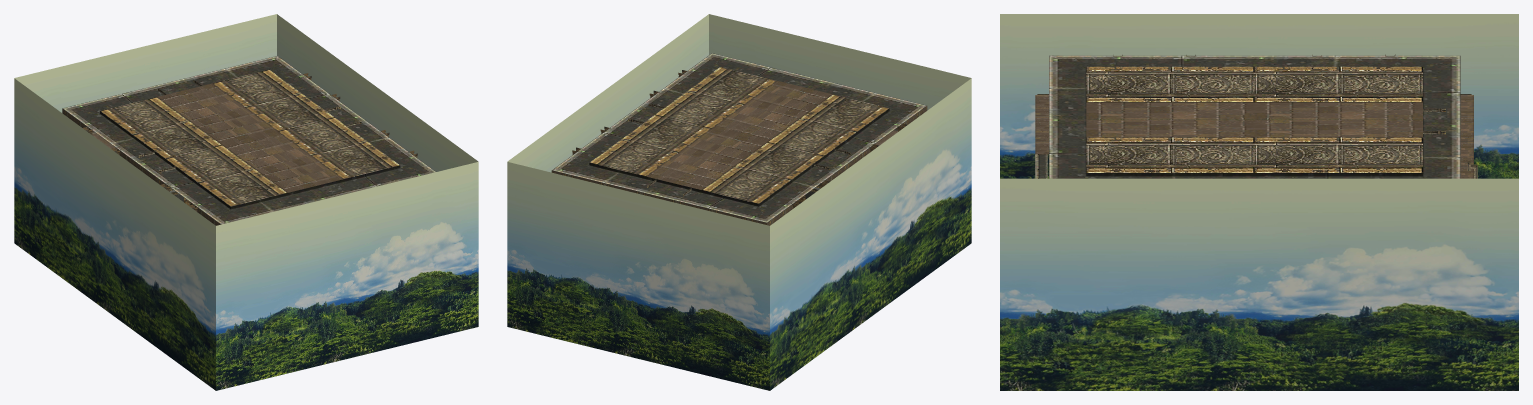
Rendered from cog_scene001.FBX.
The picture shows the model from 3 angles, left to right: view 1: azimuth 30°, elevation 25°; view 2: azimuth 150°, elevation 25°; view 3: azimuth 270°, elevation 25°; orthographic projection. The views are drawn at different scales.
Visible parts, largest first — view 1: cog_scene001_sky; view 2: cog_scene001_sky; view 3: cog_scene001_sky.
Boxes of the visible parts, x1,y1,x2,y2 form: cog_scene001_sky: (14, 14, 478, 390); cog_scene001_sky: (507, 14, 971, 390); cog_scene001_sky: (1000, 14, 1518, 390).
Bounding box in the file's own units: 3307 × 1986 × 4401.
